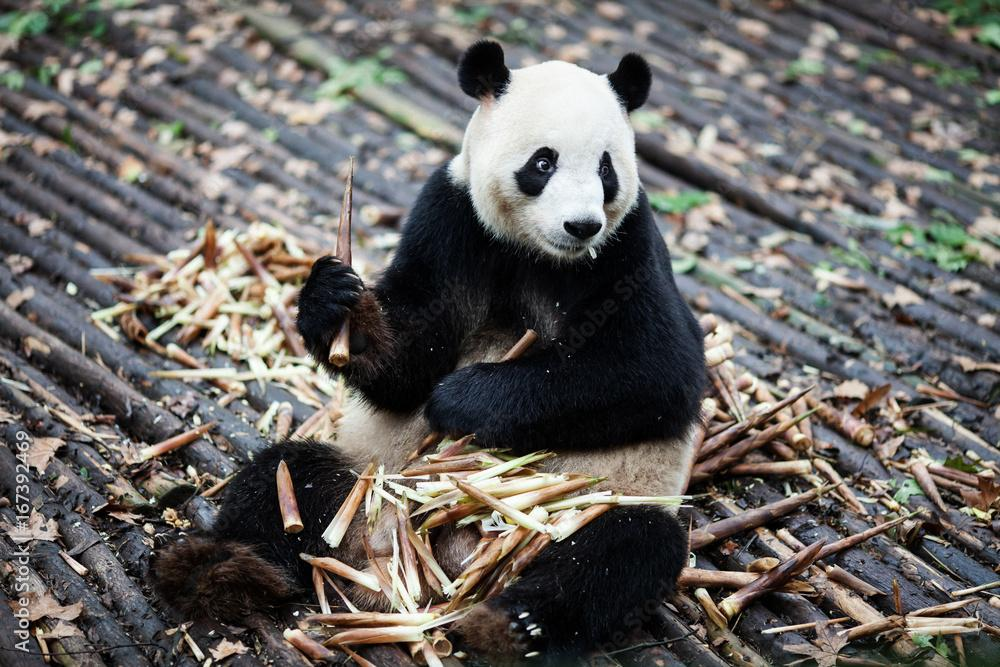panda: (152, 35, 713, 659)
